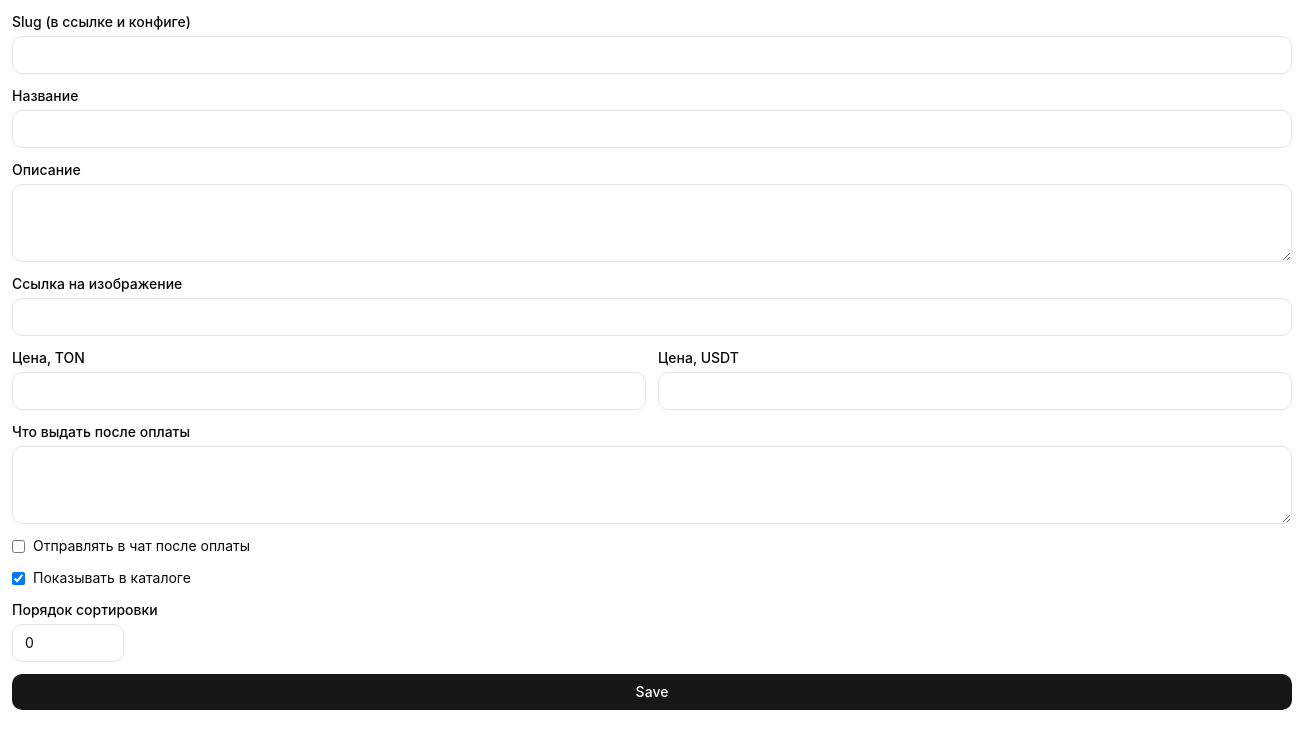
Test: ProductForm › maps a taken slug reported by the API to the slug field
The image size is (1304, 732).
Type "guide" into the field labelled "Slug (в ссылке и конфиге)".
click(652, 55); type("guide")  # box [12,36,1292,74]
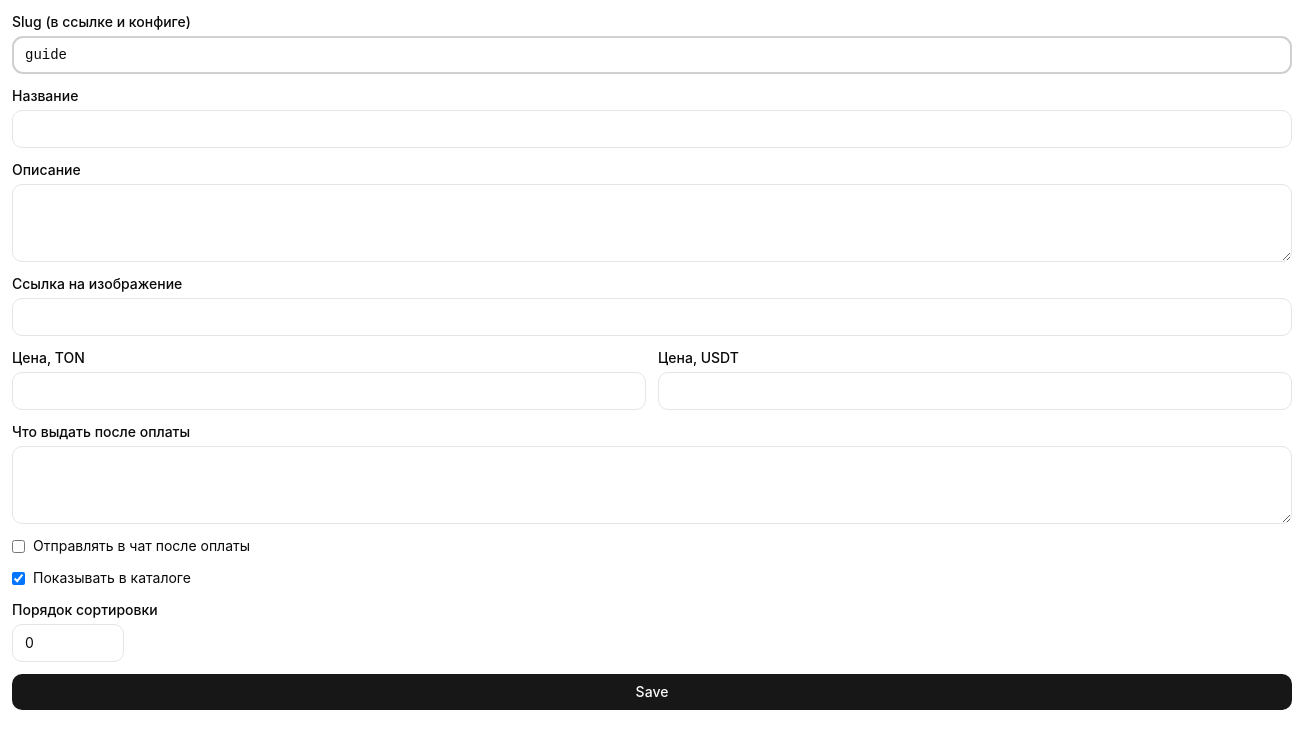
Type "Guide" into the field labelled "Название".
click(652, 129); type("Guide")  # box [12,110,1292,148]
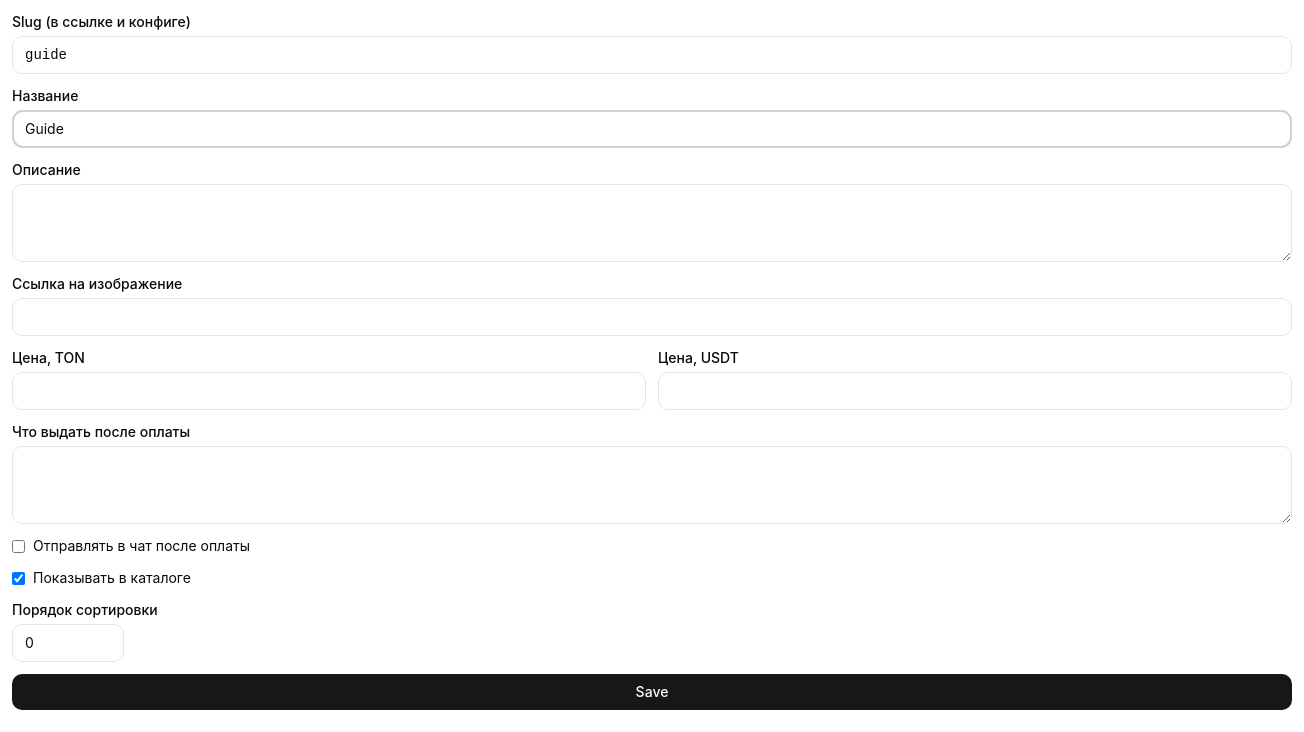
Type "1" into the field labelled "Цена, TON".
click(329, 391); type("1")  # box [12,372,646,410]
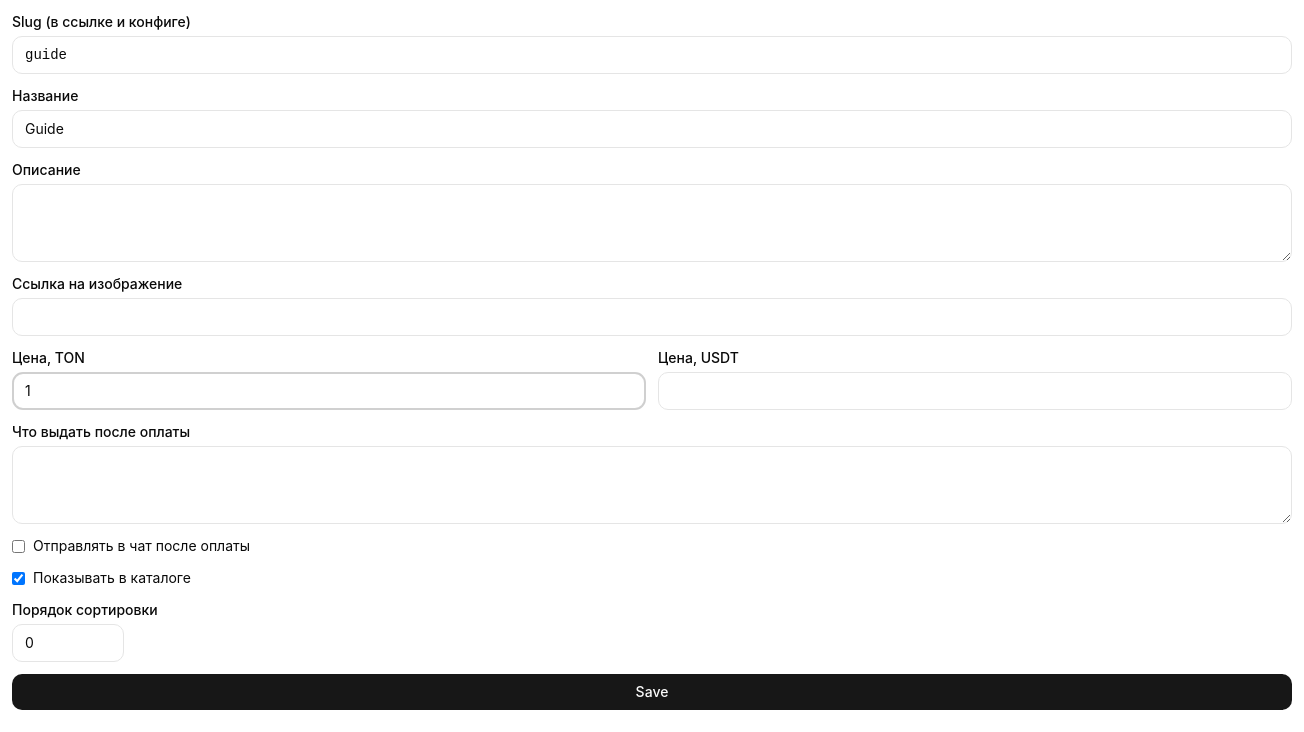
Click the button "Save".
click(652, 692)  # box [12,674,1292,710]
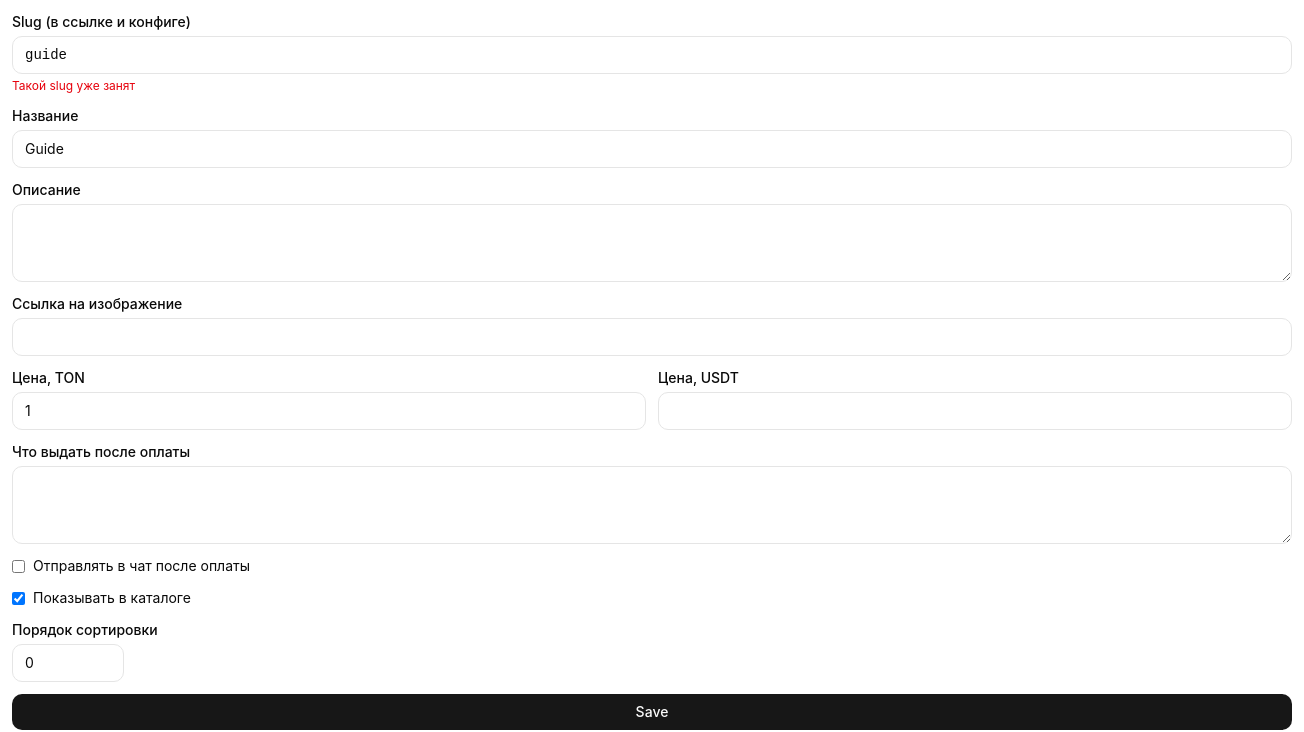
Now the text "Такой slug уже занят" is shown, box [12,78,135,93]
